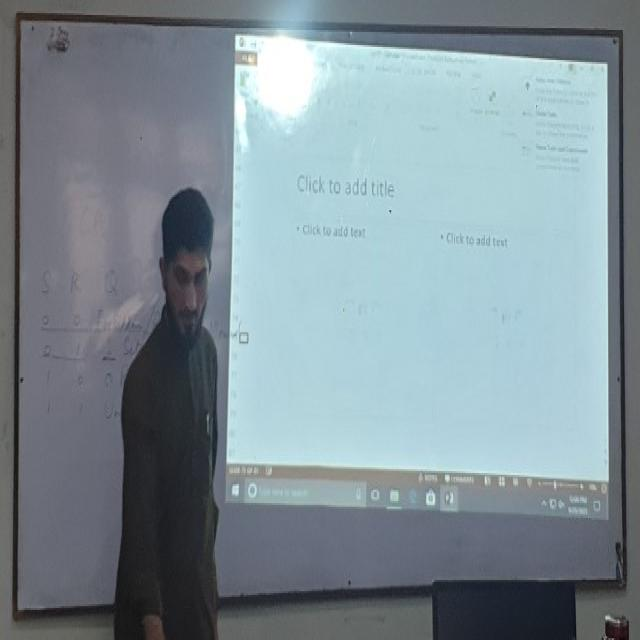Instructor: (122, 177, 225, 628)
Slide: (228, 34, 609, 520)
White-board: (16, 16, 625, 612)
